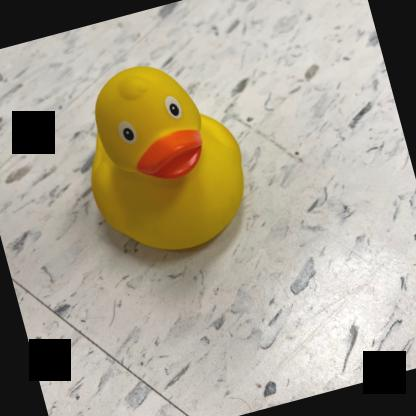duck: (58, 41, 268, 276)
